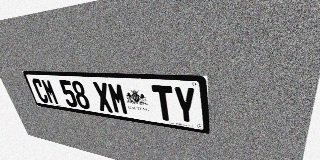5: (58, 80, 79, 108)
8: (70, 80, 91, 110)
C: (31, 78, 50, 104)
M: (107, 82, 129, 115), (40, 79, 60, 105)
T: (151, 85, 176, 122)
X: (92, 82, 114, 113)
Y: (172, 86, 197, 125)
